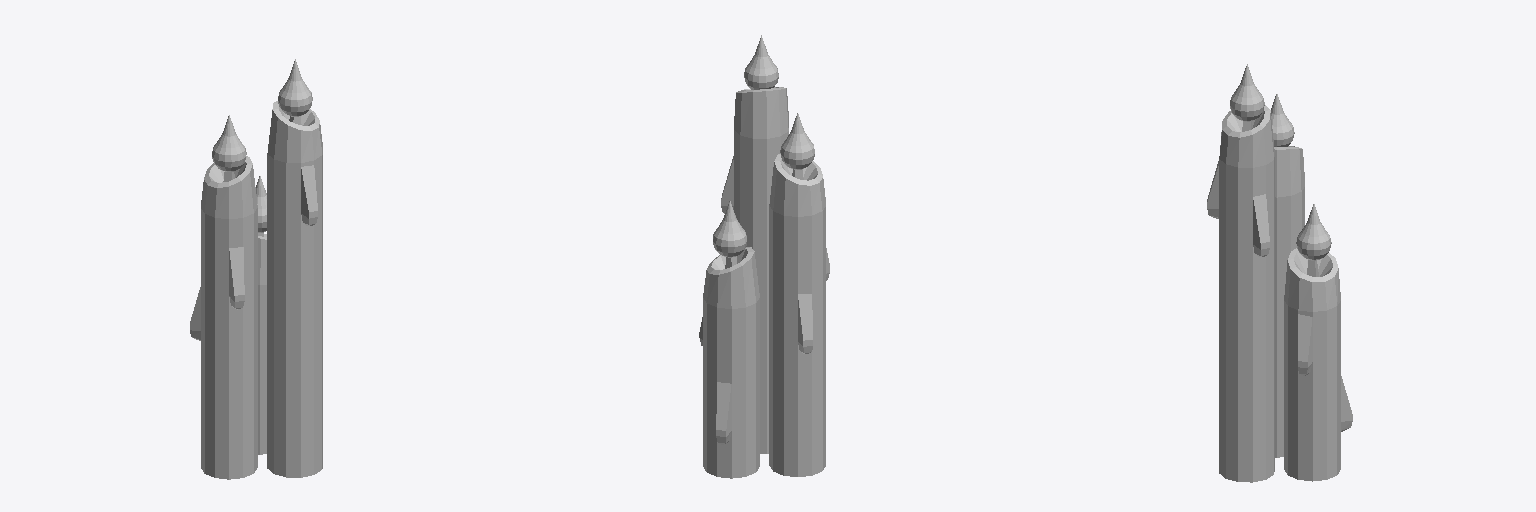
Rendered from candleBundle.obj.
The picture shows the model from 3 angles: view 1: azimuth 30°, elevation 25°; view 2: azimuth 150°, elevation 25°; view 3: azimuth 270°, elevation 25°; orthographic projection.
Parts seen in each view (by area): view 1: candleBundle_Cylinder.007; view 2: candleBundle_Cylinder.007; view 3: candleBundle_Cylinder.007.
Part boxes in pixels (bbox=[...]): candleBundle_Cylinder.007: bbox=[190, 59, 322, 479]; candleBundle_Cylinder.007: bbox=[699, 35, 829, 478]; candleBundle_Cylinder.007: bbox=[1207, 64, 1352, 482].
Size of the model in its own units: 0.3096 by 1.08 by 0.3487.